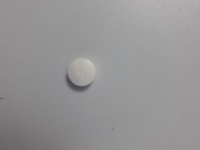Parol: (65, 57, 97, 88)
